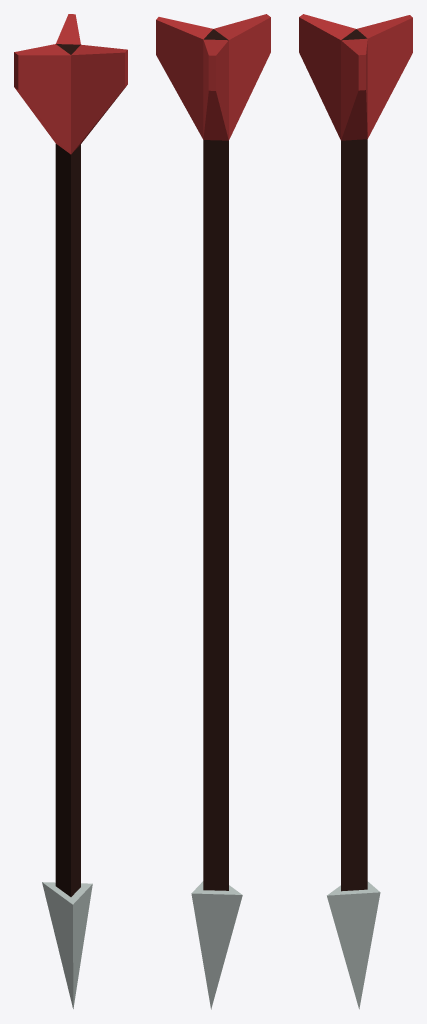
File: Arrow.fbx
3 views of the same model, side by side, from view 1: azimuth 30°, elevation 25°; view 2: azimuth 210°, elevation 25°; view 3: azimuth 330°, elevation 25° (orthographic).
Visible parts, largest first — view 1: Arrow; view 2: Arrow; view 3: Arrow.
Part boxes in pixels (left/top/right/bottom): Arrow: left=14, top=14, right=127, bottom=1008; Arrow: left=156, top=14, right=270, bottom=1009; Arrow: left=299, top=14, right=412, bottom=1009.
Bounding box in the file's own units: 6.03 × 63.6 × 6.38.
Materials: 1 (1 with a texture image).
